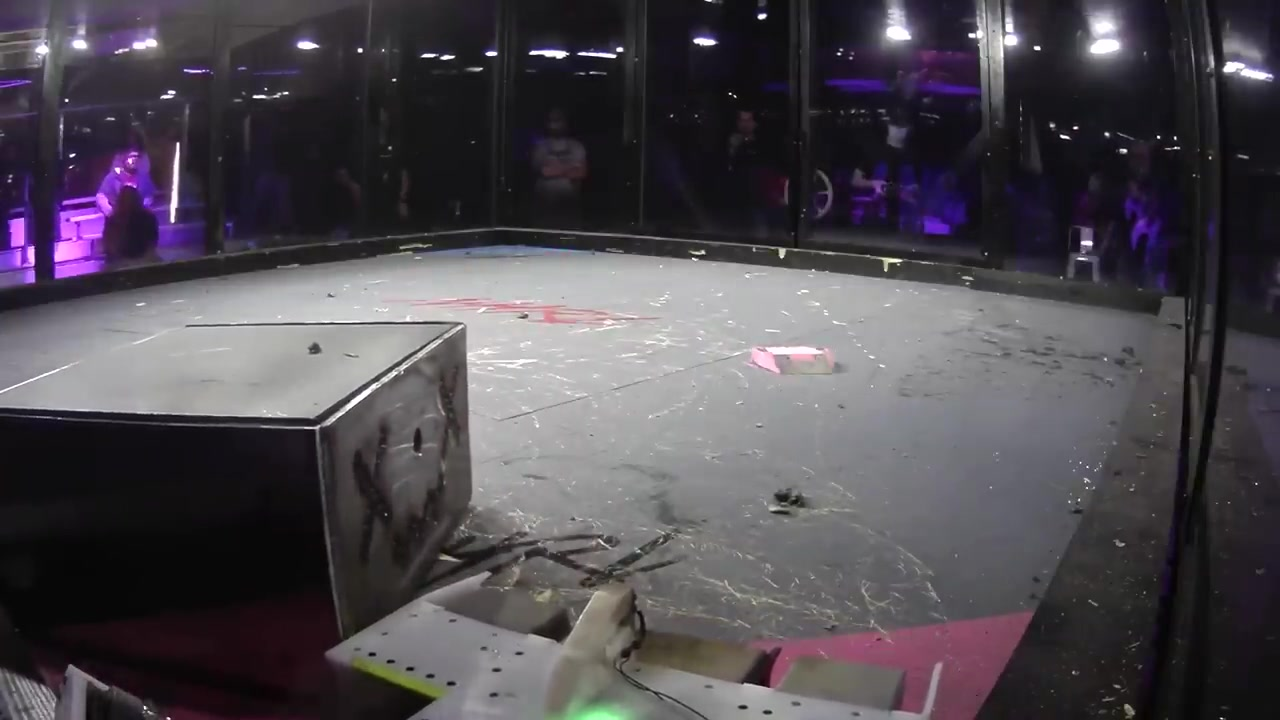combatbot: (325, 552, 942, 718), (744, 345, 845, 377)
debris: (769, 487, 806, 514)
housebot: (0, 321, 468, 720)
